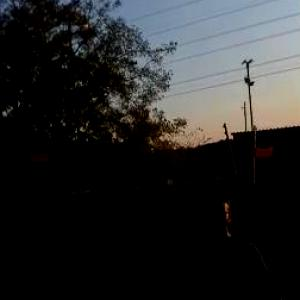follow: (168, 182, 294, 299)
